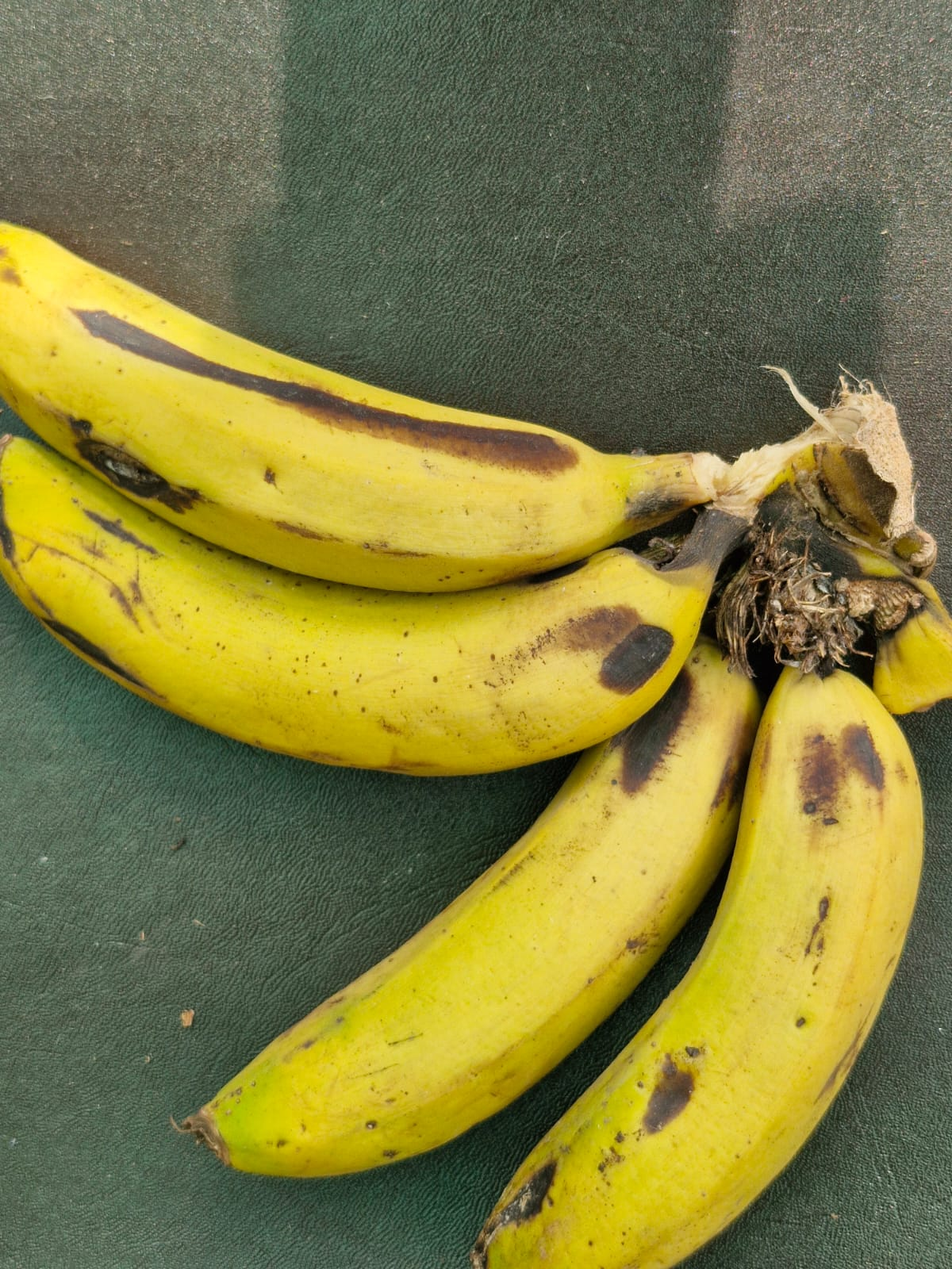banana: (138, 225, 845, 1250)
